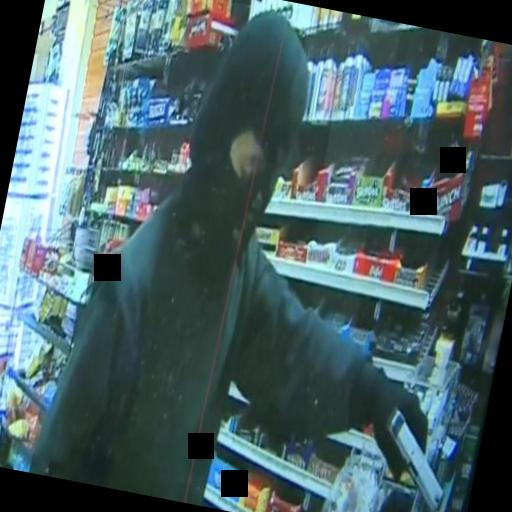Handgun: (363, 380, 464, 512)
